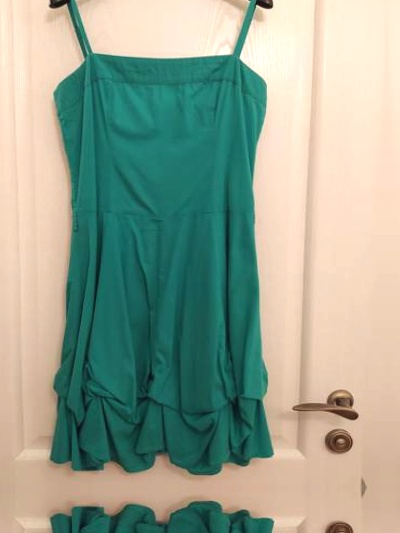Dress: (15, 0, 323, 479), (17, 498, 325, 533)
